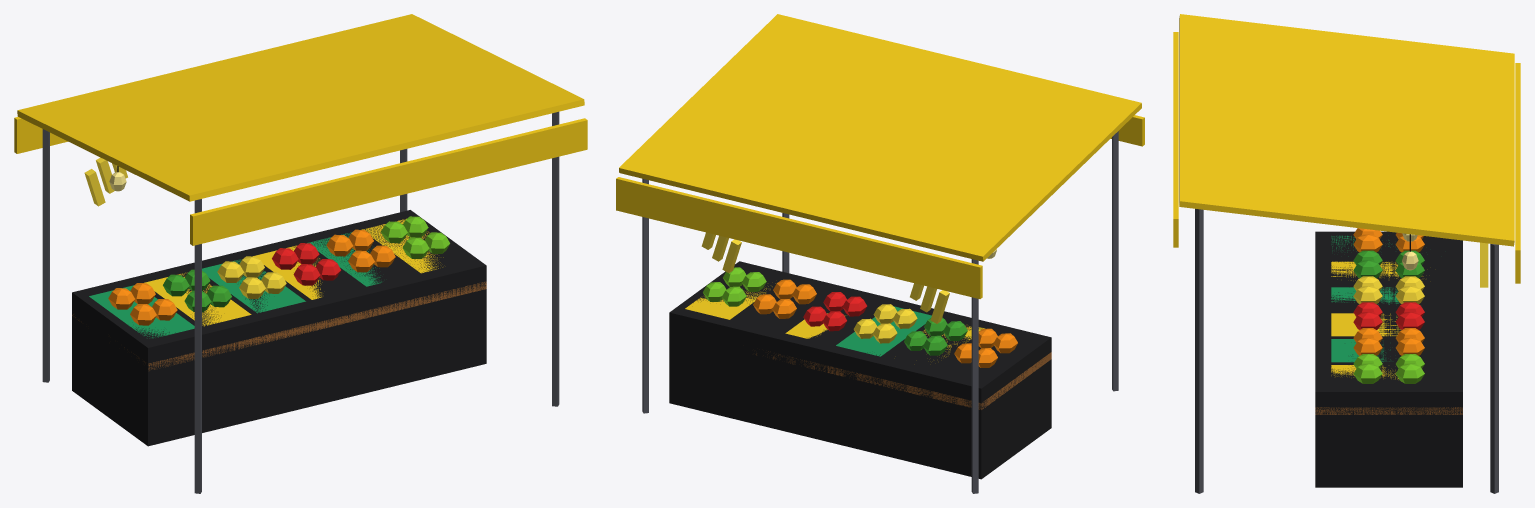
File: env_market_canopy_yellow.fbx
3 views of the same model, side by side, from view 1: azimuth 30°, elevation 25°; view 2: azimuth 150°, elevation 25°; view 3: azimuth 270°, elevation 25° (orthographic). The views are drawn at different scales.
Parts seen in each view (by area): view 1: env_market_canopy_yellow_geo_LOD0, COL_env_market_canopy_yellow; view 2: env_market_canopy_yellow_geo_LOD0, COL_env_market_canopy_yellow; view 3: env_market_canopy_yellow_geo_LOD0, COL_env_market_canopy_yellow.
Boxes of the visible parts, x1,y1,x2,y2 form: env_market_canopy_yellow_geo_LOD0: (14, 14, 587, 493); COL_env_market_canopy_yellow: (72, 210, 486, 446); env_market_canopy_yellow_geo_LOD0: (616, 14, 1144, 493); COL_env_market_canopy_yellow: (669, 261, 1051, 479); env_market_canopy_yellow_geo_LOD0: (1173, 14, 1520, 493); COL_env_market_canopy_yellow: (1315, 231, 1462, 487).
Size of what is drawn, in the model's own units: 4.2 by 3.14 by 3.29.
